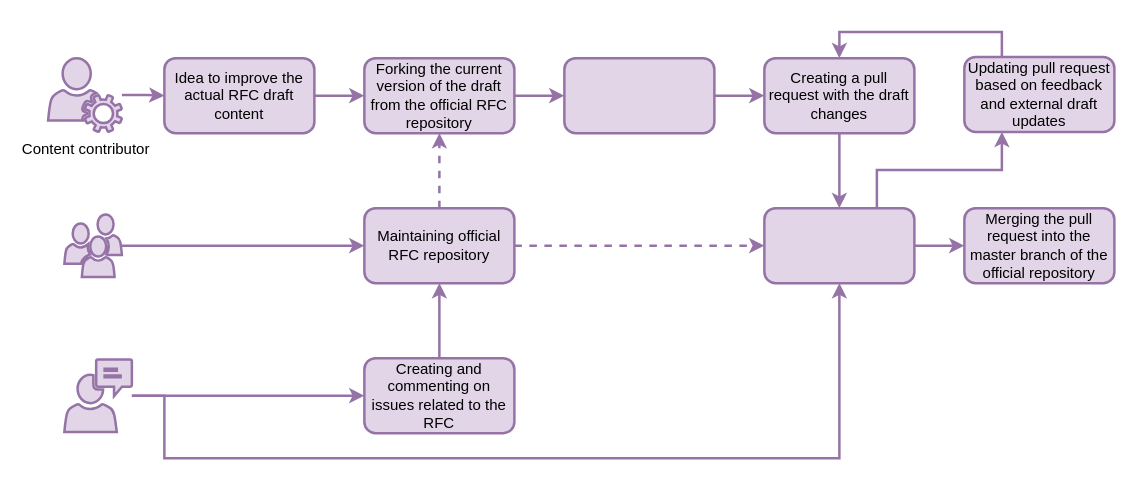
Image size: 1138x490. Some labels were removed from this diagram. The shapes that lost their labels are listed below. From the top down, each one's box as (x1, y1, x2, y2) in pixels, then its label:
(562, 56, 715, 134): Working on the draft document in the own repository
(62, 212, 122, 278): RFC team
(762, 206, 915, 284): Reviewing / commenting on the pull request
(62, 358, 132, 432): Contributor
